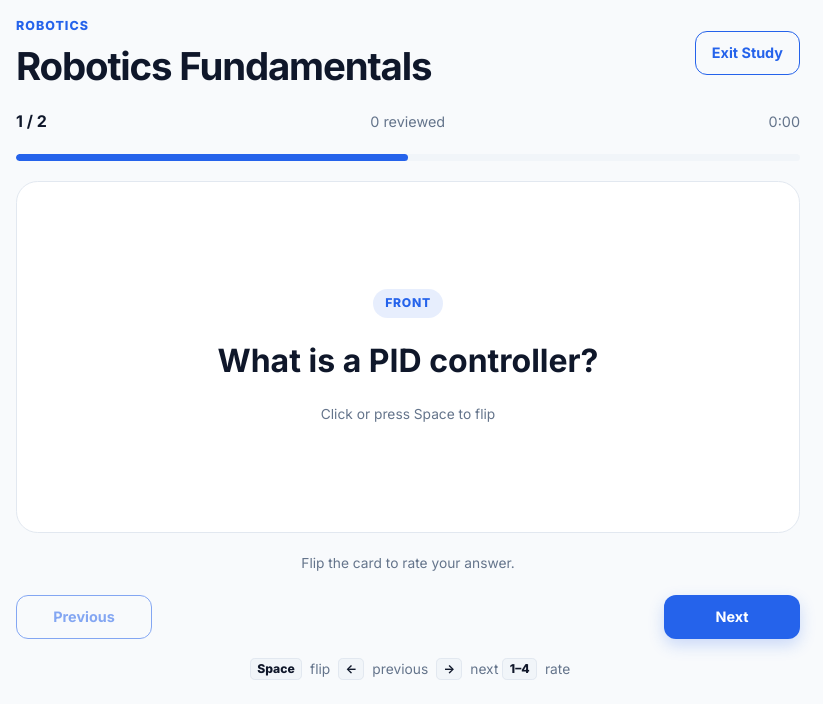
Scenario: persists ratings and summarizes a due-card review
This screenshot has width=823, height=704.
Click the button with aria-label "Card front": [63, 357] box top-left (16, 181), bottom-right (800, 533)
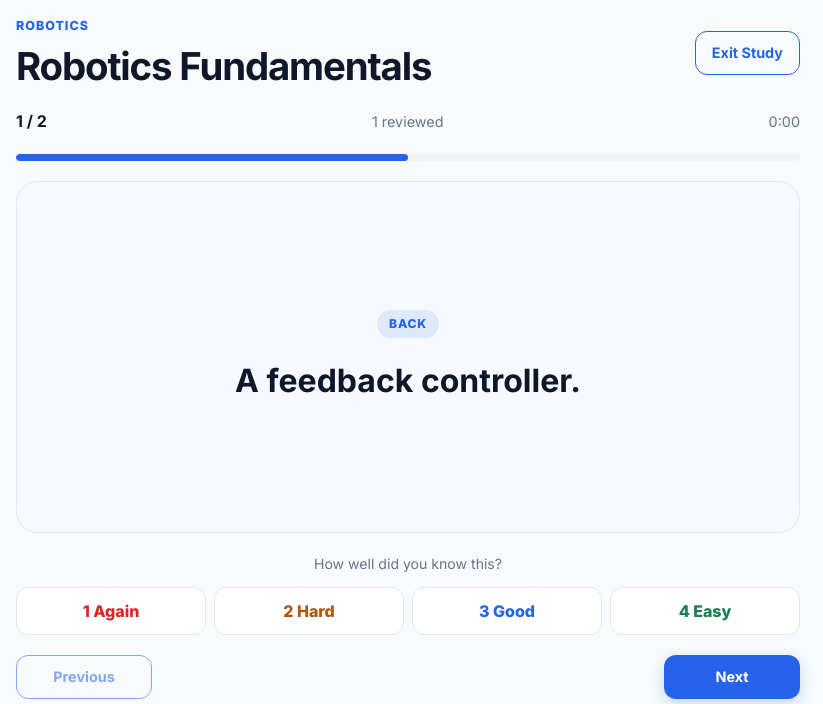
Click the button "3 Good": [507, 611] box top-left (412, 587), bottom-right (602, 635)
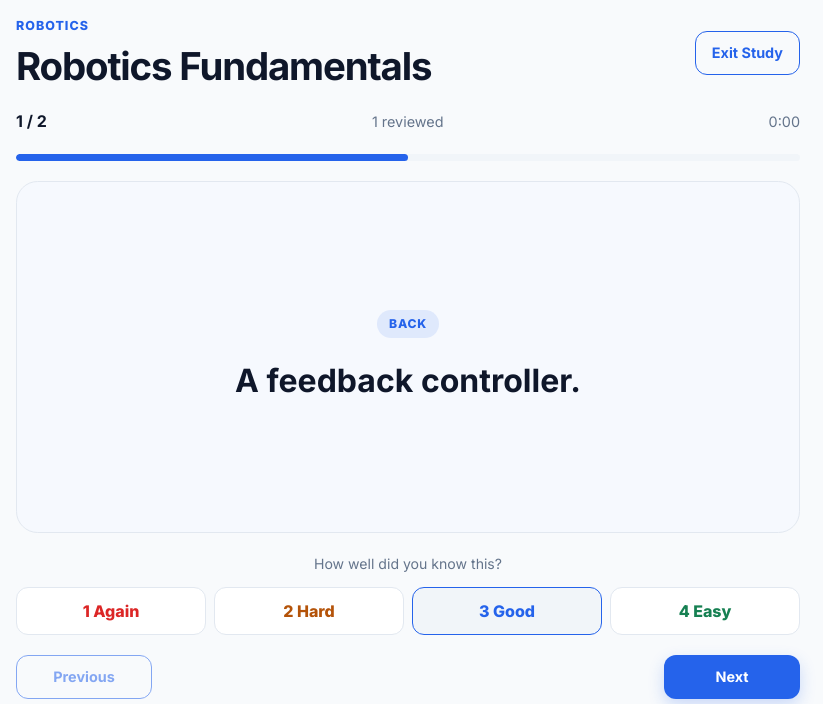
Click the button "Next": [732, 677] box top-left (664, 655), bottom-right (800, 699)
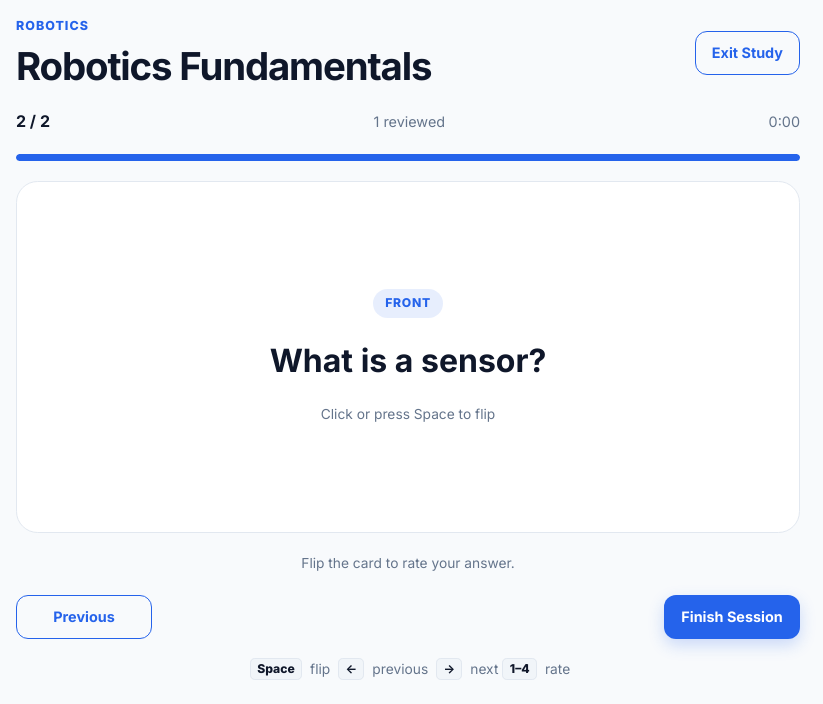
Click the button with aria-label "Card front": [63, 357] box top-left (16, 181), bottom-right (800, 533)
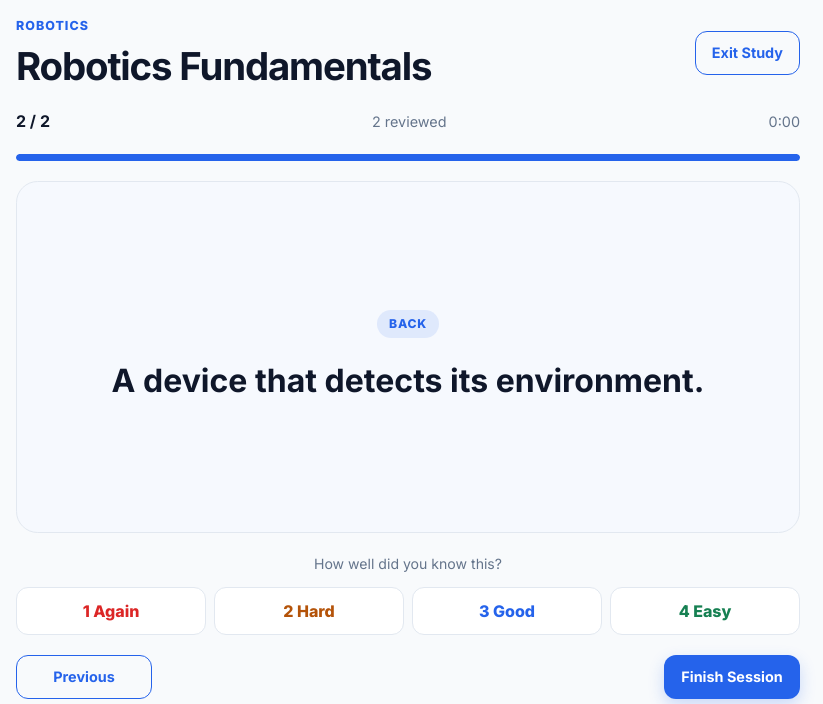
Click the button "1 Again": [111, 611] box top-left (16, 587), bottom-right (206, 635)
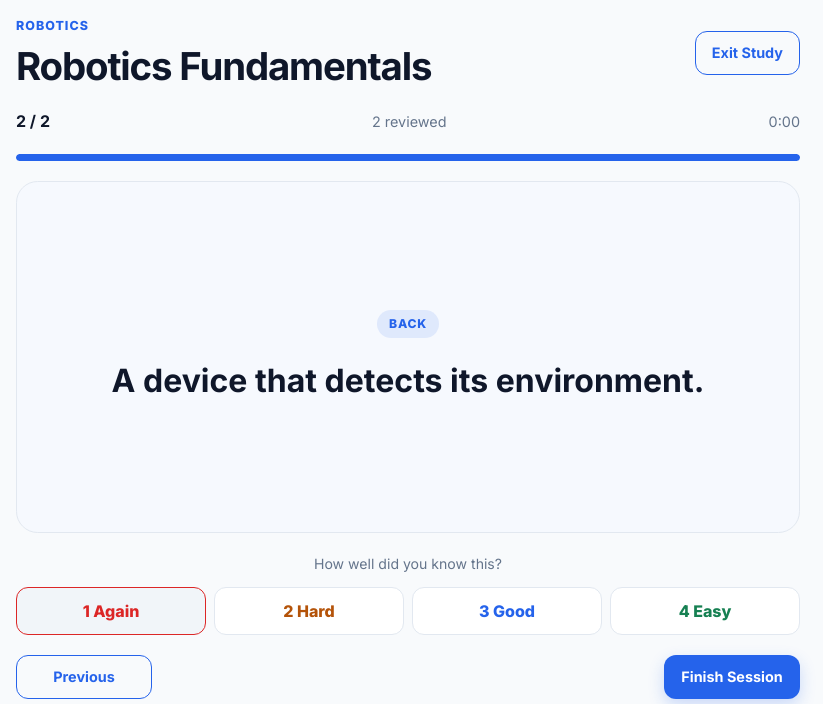
Click the button "Finish Session": [732, 677] box top-left (664, 655), bottom-right (800, 699)
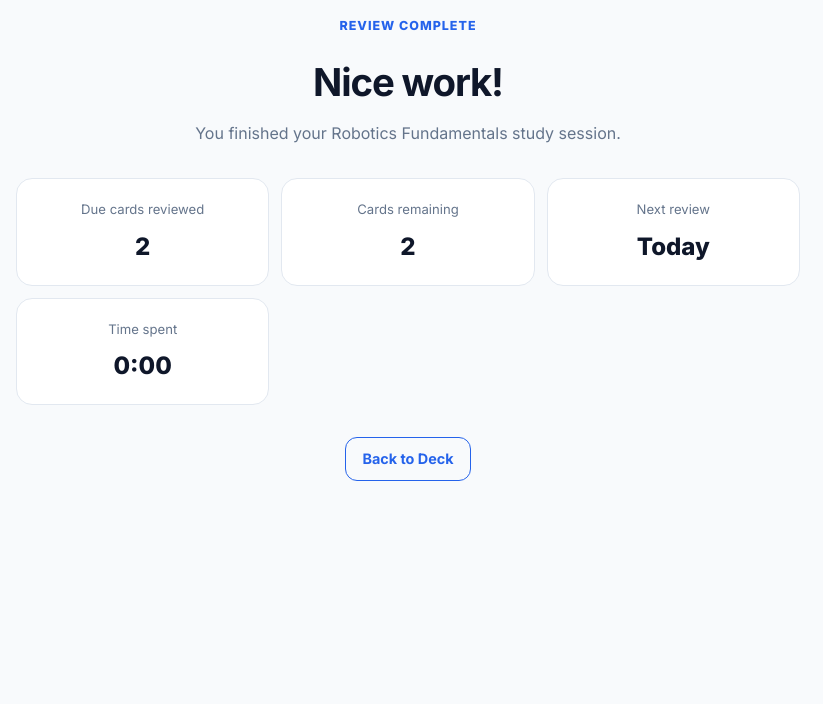
Check: the text "Review complete" is shown, box top-left (340, 16), bottom-right (476, 35)
Check: the text "Due cards reviewed" is shown, box top-left (81, 201), bottom-right (204, 217)
Check: the text "Cards remaining" is shown, box top-left (357, 201), bottom-right (459, 217)
